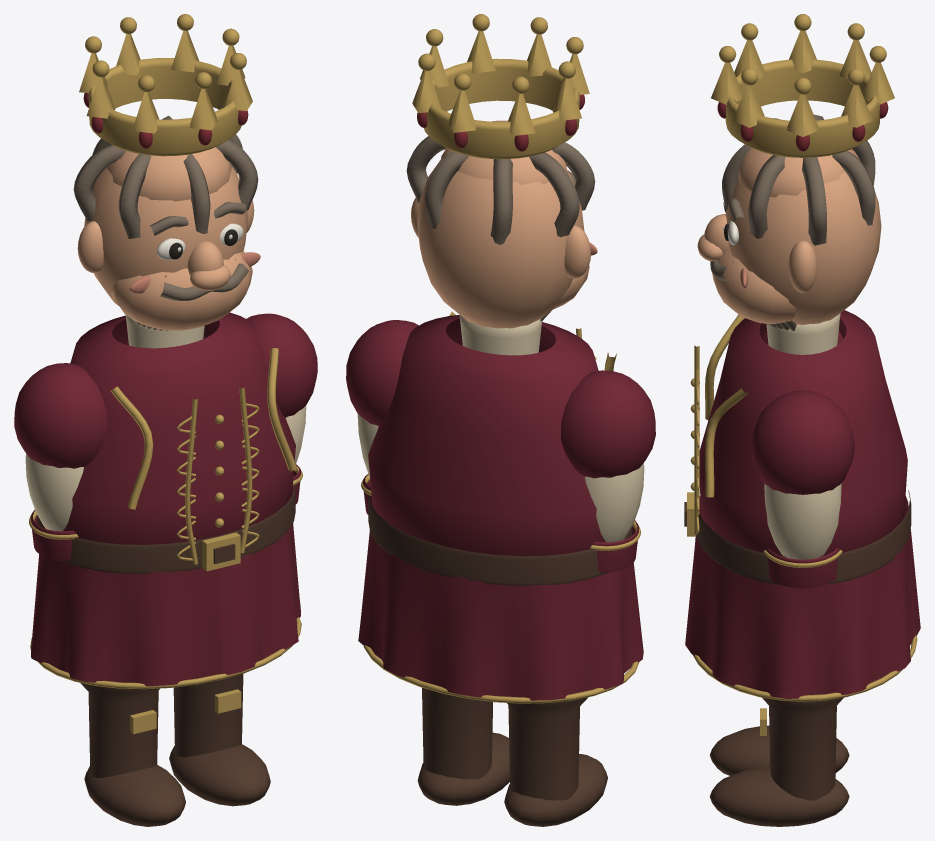
File: king.glb
3 renders of one model, left to right at view 1: azimuth 30°, elevation 25°; view 2: azimuth 150°, elevation 25°; view 3: azimuth 270°, elevation 25°, orthographic. The views are drawn at different scales.
Parts seen in each view (by area): view 1: Velvet king (×3), Leather (×3), Antique brass (×2), Skin king, Hair king, Ivory woven cloth (×3), Garnet, Eye white; view 2: Velvet king (×3), Leather (×3), Skin king, Antique brass (×2), Hair king, Ivory woven cloth (×3), Garnet; view 3: Velvet king (×2), Antique brass (×2), Skin king, Leather (×3), Hair king, Ivory woven cloth (×2), Garnet.
Part boxes in pixels (x1,y1,x2,y2): Velvet king (×3): (14, 312, 317, 686); Leather (×3): (37, 485, 295, 826); Antique brass (×2): (30, 14, 301, 689); Skin king: (77, 147, 254, 330); Hair king: (73, 115, 258, 330); Ivory woven cloth (×3): (25, 315, 306, 531); Garnet: (83, 93, 248, 148); Eye white: (157, 223, 243, 259); Velvet king (×3): (346, 315, 655, 700); Leather (×3): (368, 495, 632, 826); Skin king: (411, 120, 590, 328); Antique brass (×2): (363, 14, 639, 703); Hair king: (406, 136, 595, 321); Ivory woven cloth (×3): (357, 314, 644, 542); Garnet: (417, 94, 584, 151); Velvet king (×2): (685, 310, 920, 698); Antique brass (×2): (687, 14, 917, 701); Skin king: (697, 148, 881, 324); Leather (×3): (684, 490, 911, 826); Hair king: (710, 114, 875, 330); Ivory woven cloth (×2): (764, 313, 841, 559); Garnet: (717, 102, 888, 151).
Size of the model in its own units: 0.9384 by 2.32 by 0.6595.
